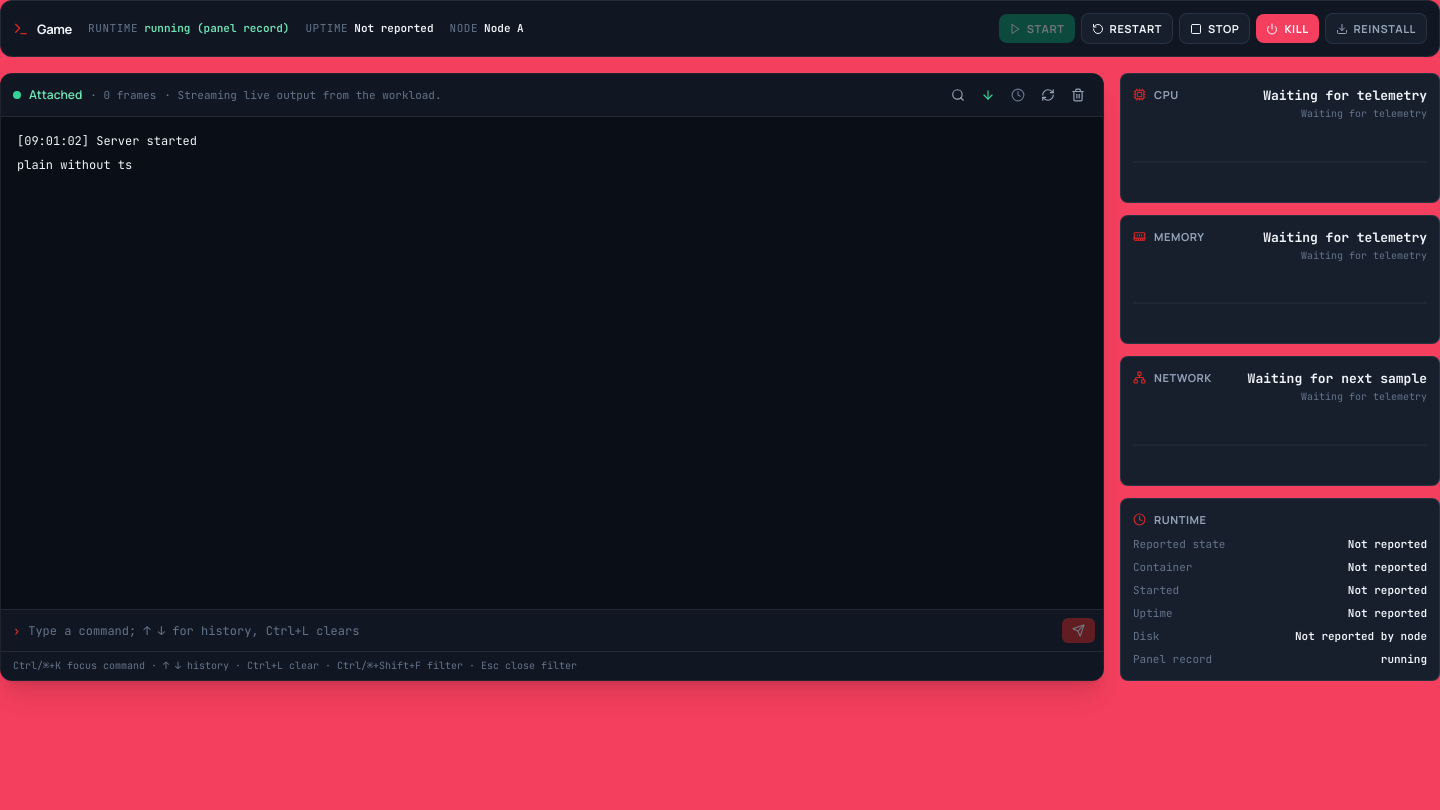
Test case: console-view synthetic timestamps frozen vs serverTs › prefers serverTs over synthetic when line carries a timestamp prefix
Check: the text "[09:01:02] Server started" is shown, box x1=17 y1=133 x2=197 y2=149
Check: the text "plain without ts" is shown, box x1=17 y1=157 x2=132 y2=173
Click the button named "Show timestamps" at x=1018, y=95, box x1=1005 y1=82 x2=1031 y2=108
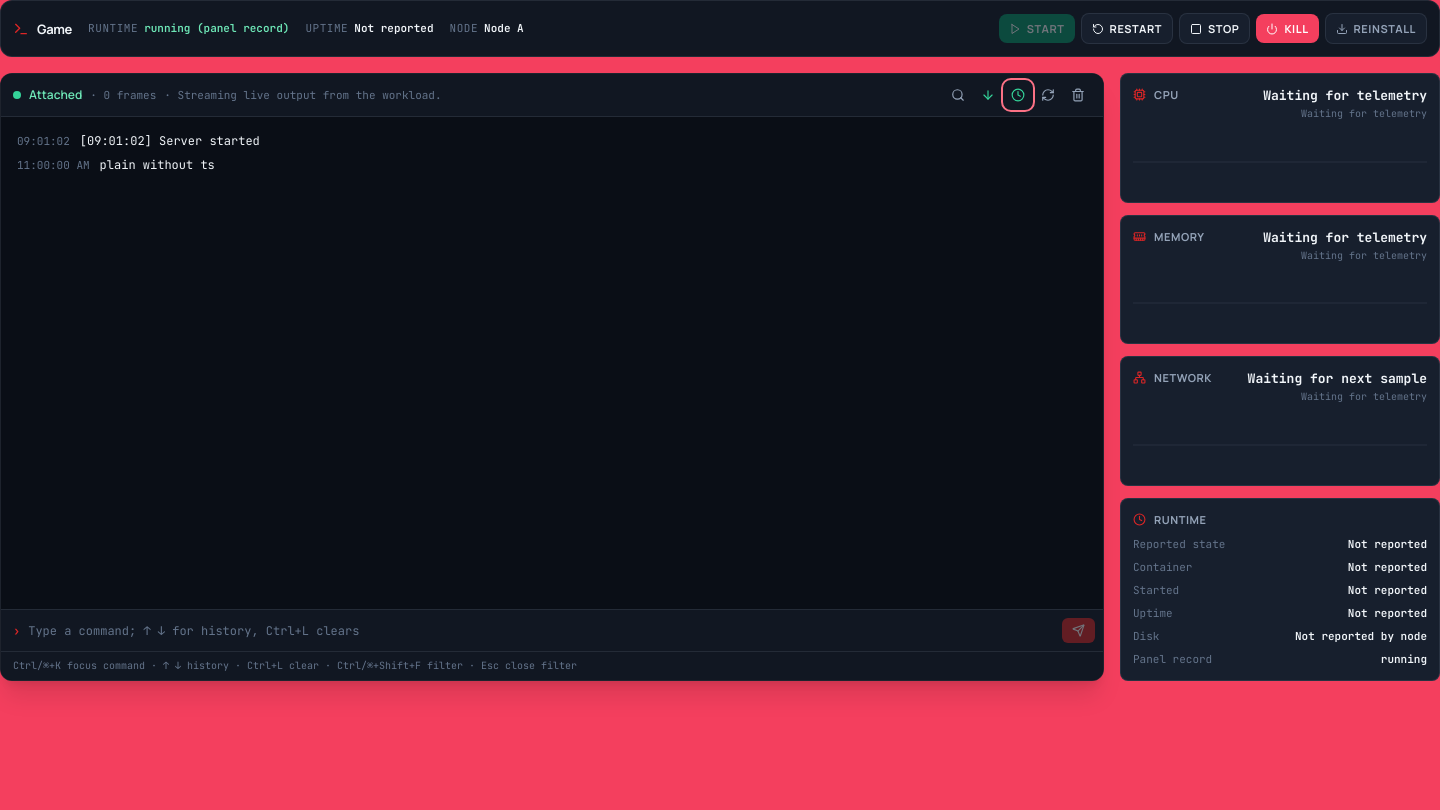
Check: the text "09:01:02" is shown, box x1=17 y1=134 x2=70 y2=148
